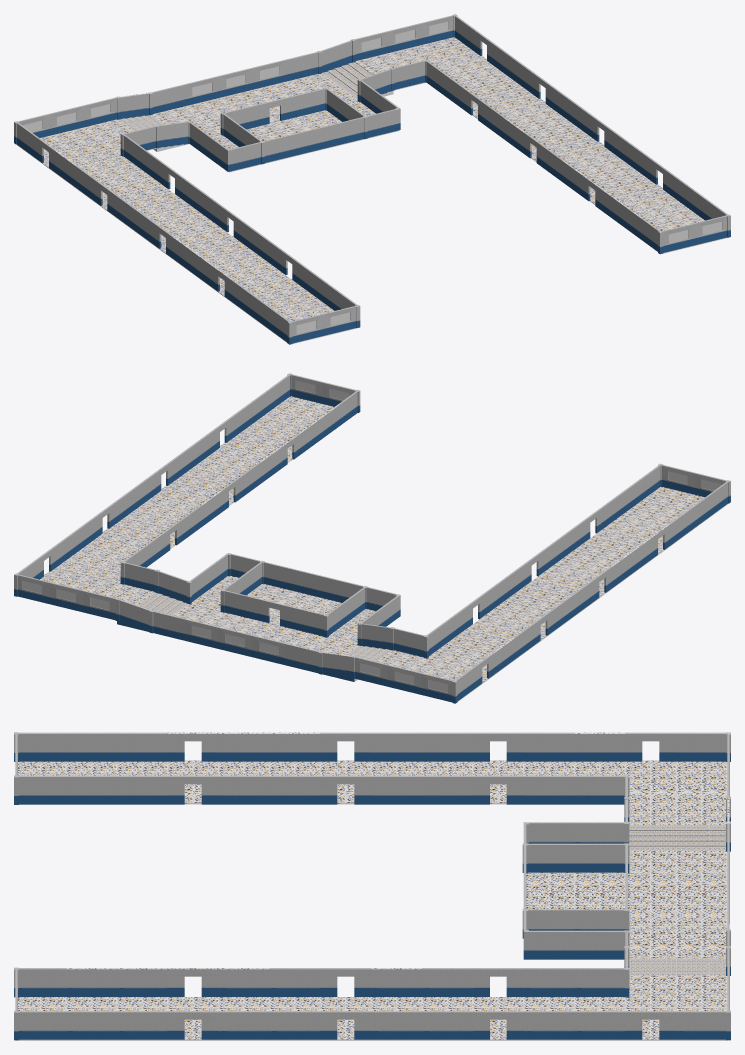
The model's file is groundFloor_hall.fbx.
3 views of the same model, one above another, from view 1: azimuth 30°, elevation 25°; view 2: azimuth 150°, elevation 25°; view 3: azimuth 270°, elevation 25° (orthographic). The views are drawn at different scales.
Visible parts, largest first — view 1: groundFloor; view 2: groundFloor; view 3: groundFloor.
Boxes of the visible parts, box(x1,y1,x2,y2) form: groundFloor: box(14, 14, 730, 344); groundFloor: box(14, 373, 730, 703); groundFloor: box(14, 732, 730, 1040).
Bounding box in the file's own units: 131 × 7.2 × 141.
3 materials, 2 textured.
